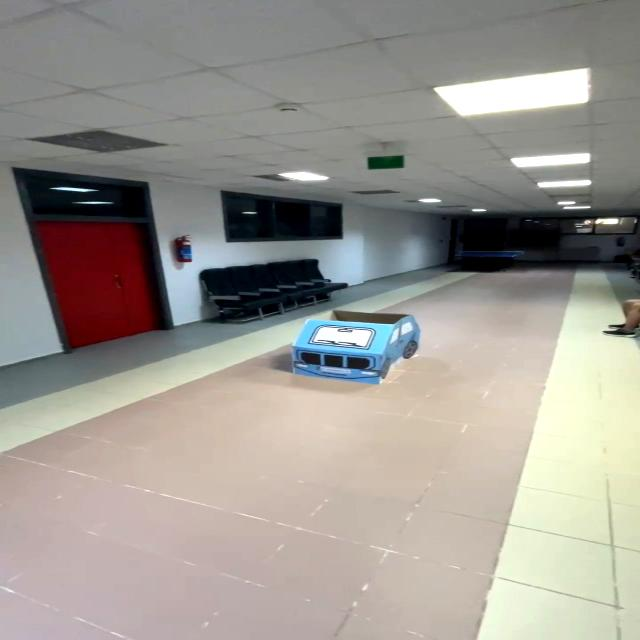blue_car: (256, 297, 442, 397)
